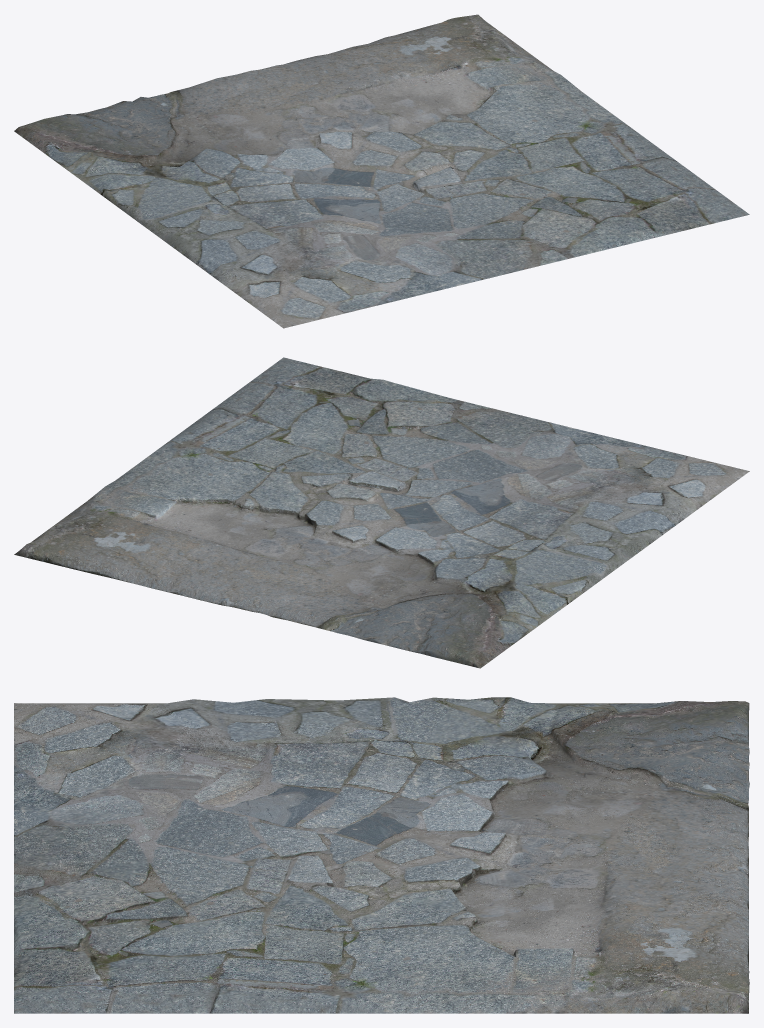
The model's file is sm_Stairs_01_05.fbx.
The picture shows the model from 3 angles, top to bottom: view 1: azimuth 30°, elevation 25°; view 2: azimuth 150°, elevation 25°; view 3: azimuth 270°, elevation 25°; orthographic projection. The views are drawn at different scales.
Visible parts, largest first — view 1: sm_Stairs_01_05_LOD0; view 2: sm_Stairs_01_05_LOD0; view 3: sm_Stairs_01_05_LOD0.
Boxes of the visible parts, x1=… form: sm_Stairs_01_05_LOD0: x1=14, y1=14, x2=749, y2=328; sm_Stairs_01_05_LOD0: x1=14, y1=357, x2=749, y2=668; sm_Stairs_01_05_LOD0: x1=14, y1=697, x2=749, y2=1013.
Bounding box in the file's own units: 201 × 201 × 5.68.
